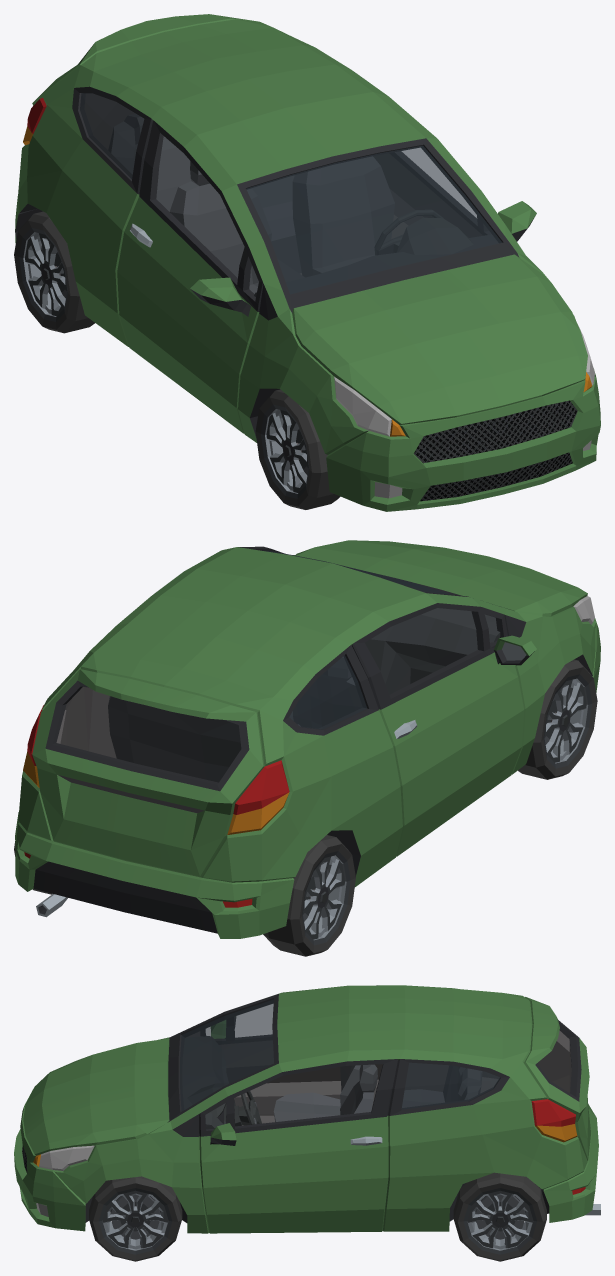
The model's file is redline_street_hatch.glb.
3 views of the same model, one above another, from view 1: azimuth 30°, elevation 25°; view 2: azimuth 150°, elevation 25°; view 3: azimuth 270°, elevation 25° (orthographic). The views are drawn at different scales.
Visible parts, largest first — view 1: Body, Hood, Glass, Door_R, Wheel_FR, Wheel_RR, Door_L, Trunk; view 2: Body, Trunk, Door_R, Hood, Wheel_RR, Wheel_FR, Glass; view 3: Body, Door_L, Hood, Glass, Wheel_RL, Wheel_FL, Door_R, Trunk.
Part boxes in pixels (x1,y1,x2,y2): Body: [15, 19, 600, 511]; Hood: [292, 254, 587, 424]; Glass: [80, 93, 501, 294]; Door_R: [117, 120, 263, 433]; Wheel_FR: [255, 389, 340, 509]; Wheel_RR: [14, 211, 94, 333]; Door_L: [373, 151, 536, 241]; Trunk: [32, 14, 255, 149]; Body: [15, 546, 600, 938]; Trunk: [32, 669, 264, 877]; Door_R: [352, 603, 536, 856]; Hood: [295, 540, 587, 616]; Wheel_RR: [263, 835, 355, 956]; Wheel_FR: [518, 659, 597, 779]; Glass: [262, 550, 452, 729]; Body: [14, 985, 600, 1233]; Door_L: [199, 1059, 397, 1233]; Hood: [23, 1038, 169, 1155]; Glass: [180, 999, 500, 1111]; Wheel_RL: [453, 1172, 546, 1261]; Wheel_FL: [89, 1176, 182, 1261]; Door_R: [200, 985, 382, 1115]; Trunk: [524, 997, 590, 1160].
Bounding box in the file's own units: 2.22 × 1.64 × 4.4.
3 materials, 2 textured.
